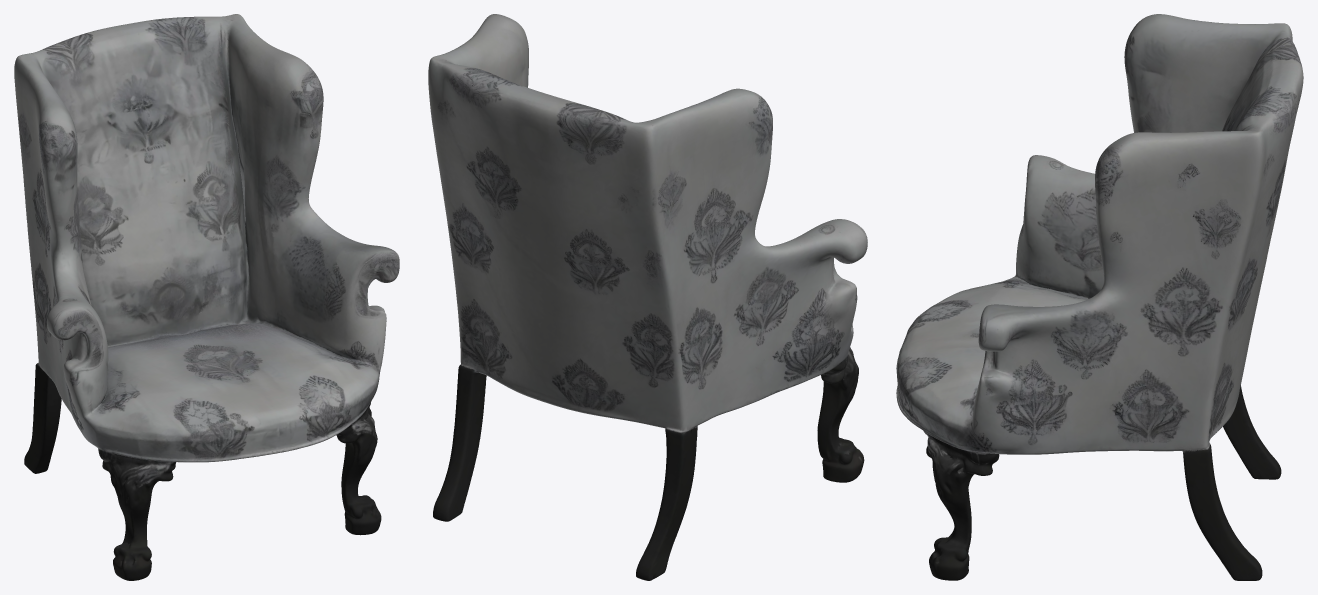
The model's file is m-armchair-stylized.glb.
3 renders of one model, left to right at view 1: azimuth 30°, elevation 25°; view 2: azimuth 150°, elevation 25°; view 3: azimuth 270°, elevation 25°, orthographic. The views are drawn at different scales.
Parts seen in each view (by area): view 1: tripo_node_9aeda3c0-3535-436b-8ecc-0d7f69b2e8ff; view 2: tripo_node_9aeda3c0-3535-436b-8ecc-0d7f69b2e8ff; view 3: tripo_node_9aeda3c0-3535-436b-8ecc-0d7f69b2e8ff.
Boxes of the visible parts, x1,y1,x2,y2 form: tripo_node_9aeda3c0-3535-436b-8ecc-0d7f69b2e8ff: (14,14,399,580); tripo_node_9aeda3c0-3535-436b-8ecc-0d7f69b2e8ff: (428,14,867,580); tripo_node_9aeda3c0-3535-436b-8ecc-0d7f69b2e8ff: (896,14,1303,580).
Bounding box in the file's own units: 0.9628 × 1.17 × 0.9524.
Materials: 1 (1 with a texture image).
